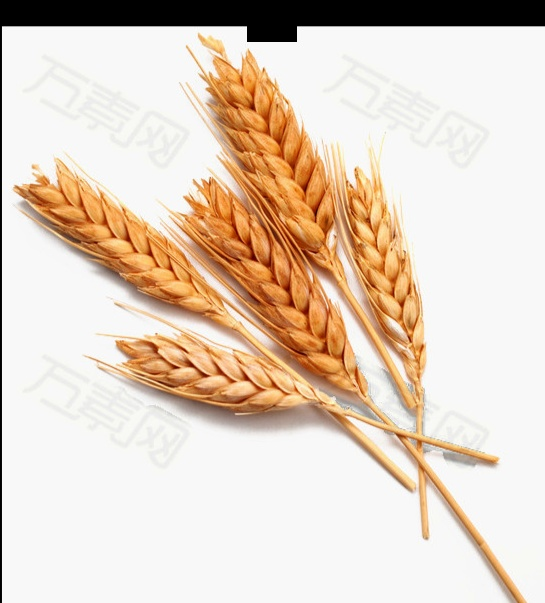wheat: (194, 41, 379, 344), (22, 154, 272, 354), (199, 187, 387, 420), (322, 155, 443, 419), (61, 319, 344, 411)
